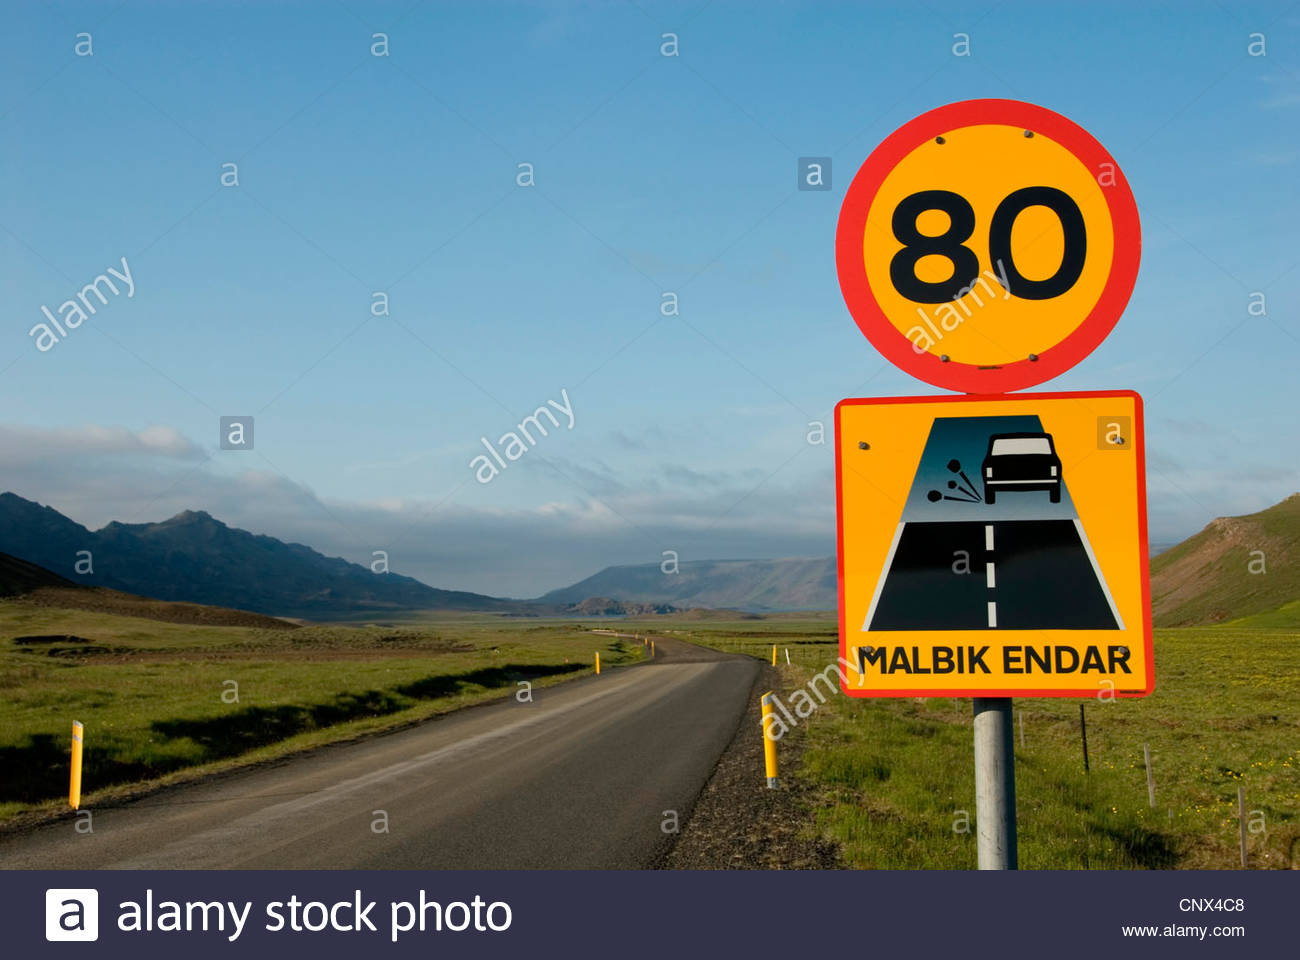speed_limit_80: (833, 97, 1144, 393)
